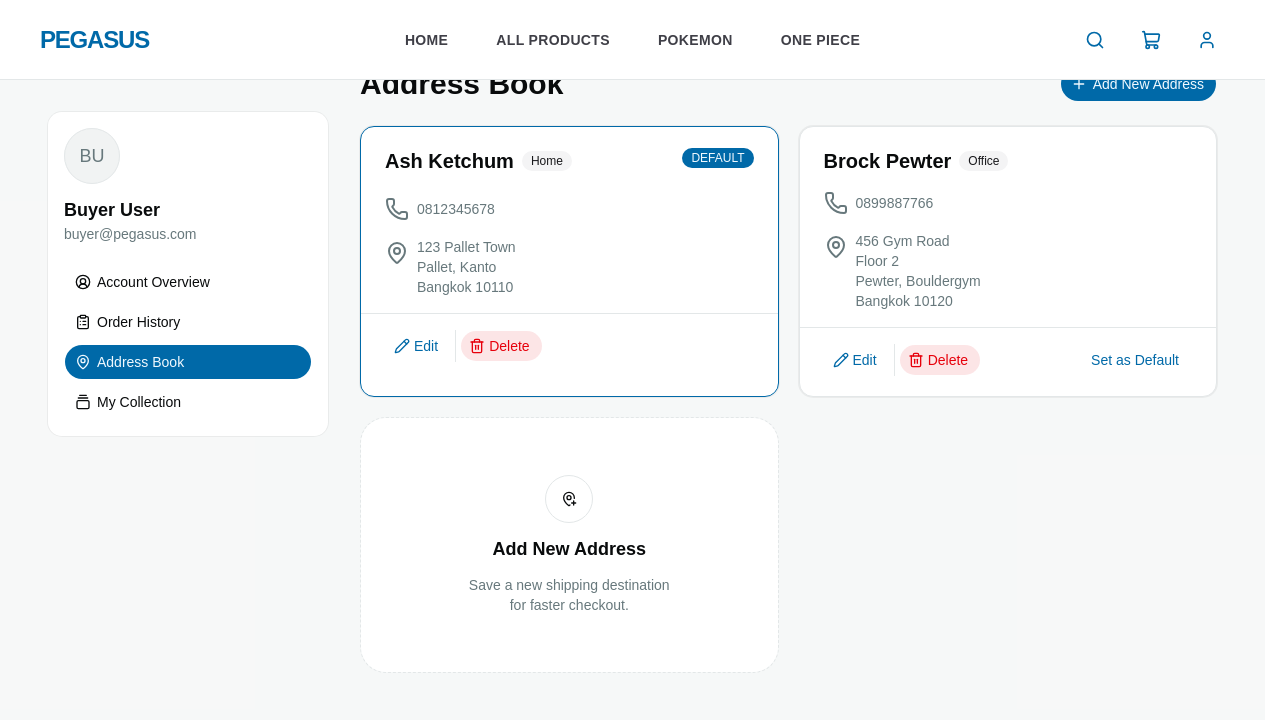
Test: Core Account Addresses Flow › deletes an address after confirmation
The width and height of the screenshot is (1280, 720).
(page scrolled)
expect the text "Brock Pewter" is shown: met, box [824,150,952,172]
Click the button "Delete" below "Bangkok 10120": (941, 360) [899,344,982,376]
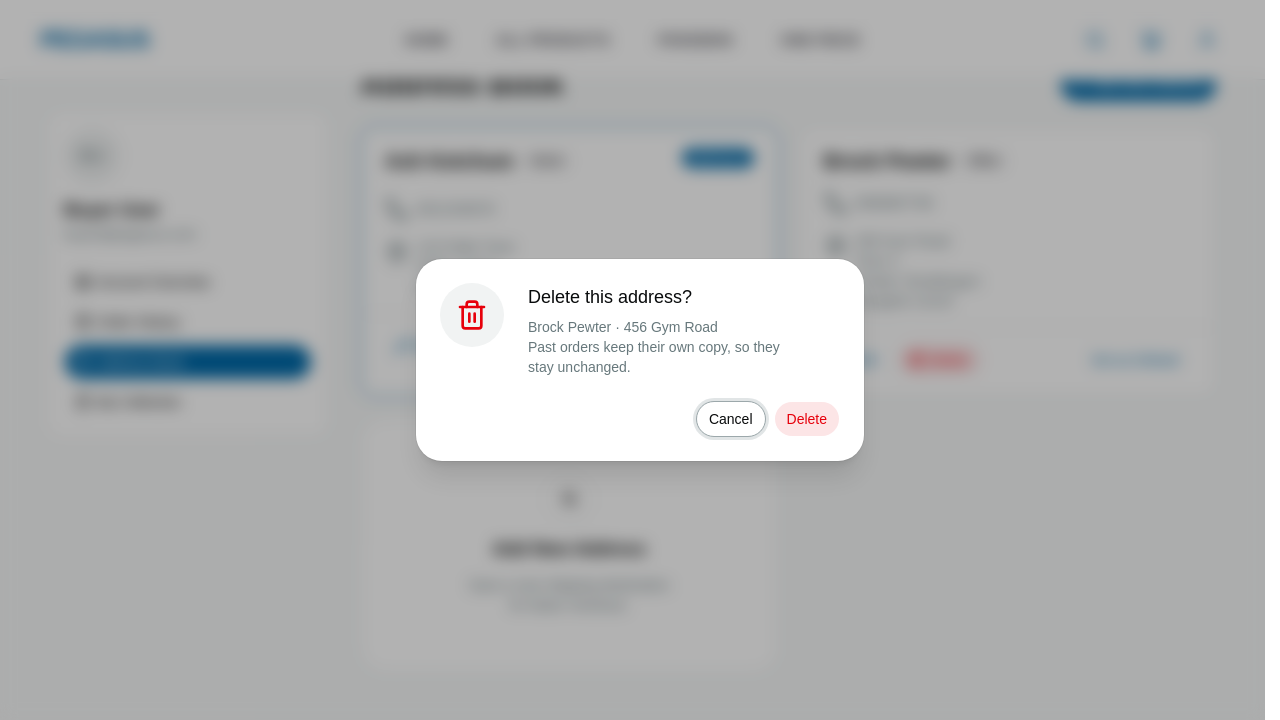
expect the heading "Delete this address?" is shown: met, box [528,283,692,311]
Click the button "Delete": (808, 419) [774,401,841,437]
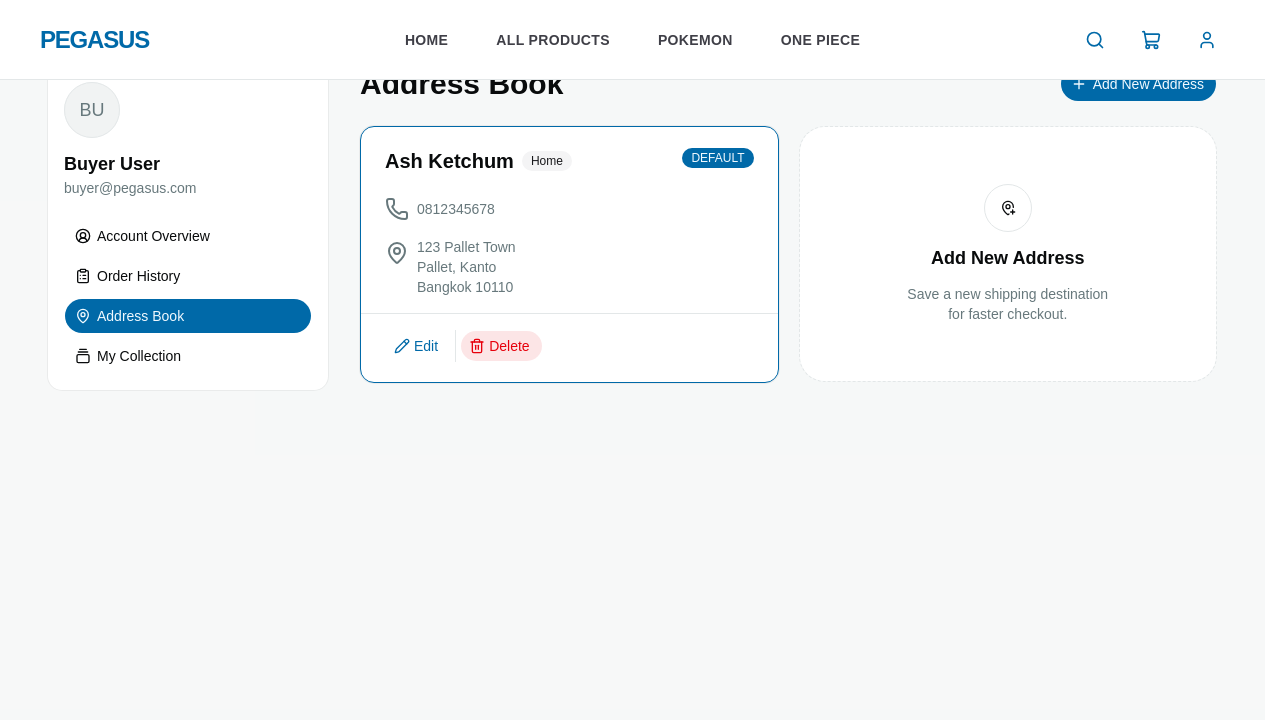
expect the text "Brock Pewter" is gone: met
